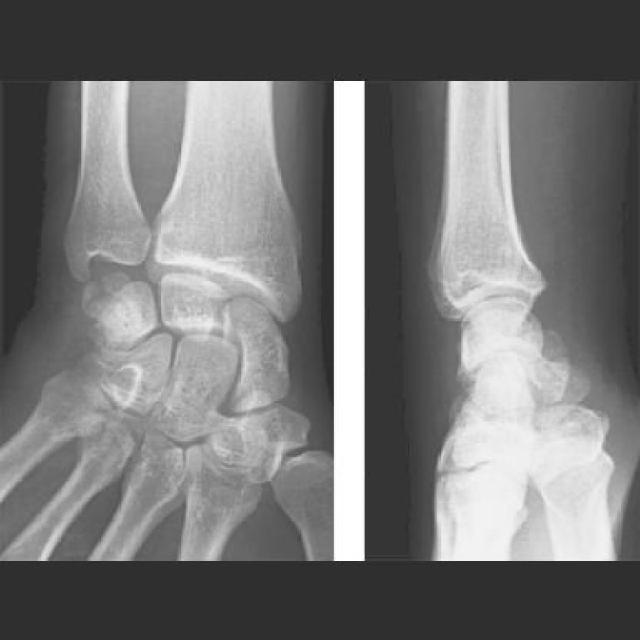Fracture: (78, 274, 140, 336)
